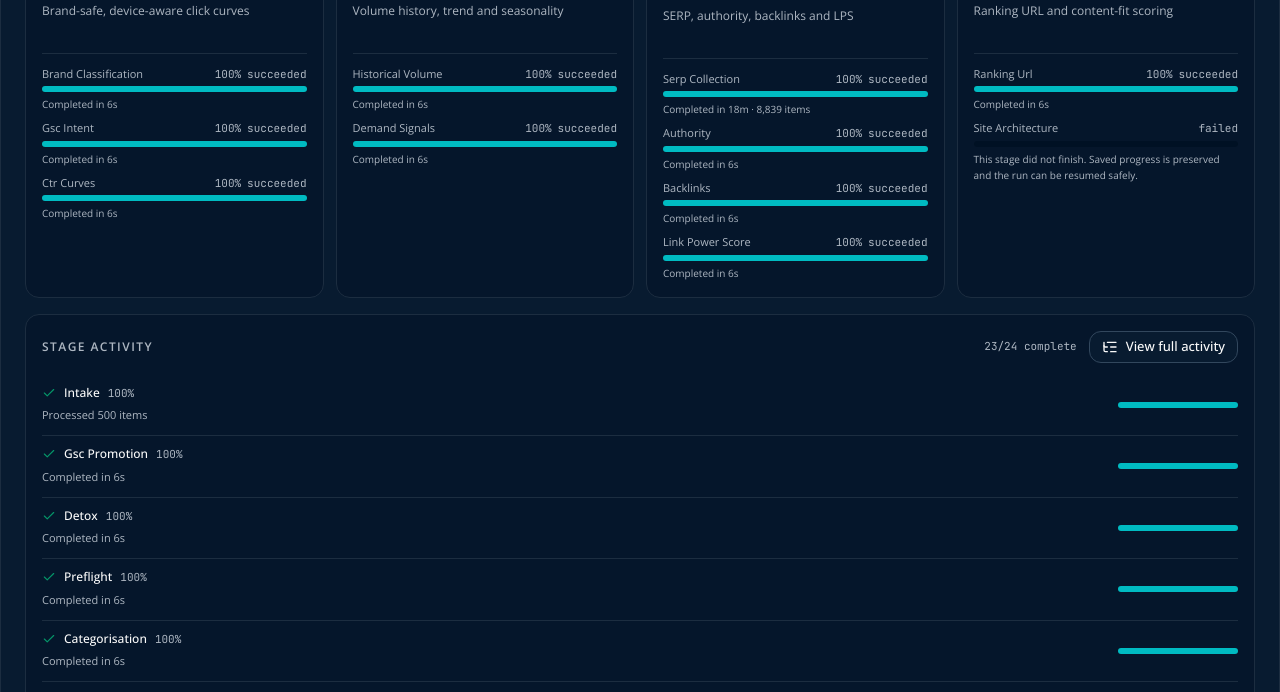
Scenario: AutonomousPipelinePanel › opens a complete sanitized stage-by-stage activity log
This screenshot has width=1280, height=692.
(page scrolled)
Step 1. Click the button "View full activity" → (1163, 346), box [1089,330,1238,362]
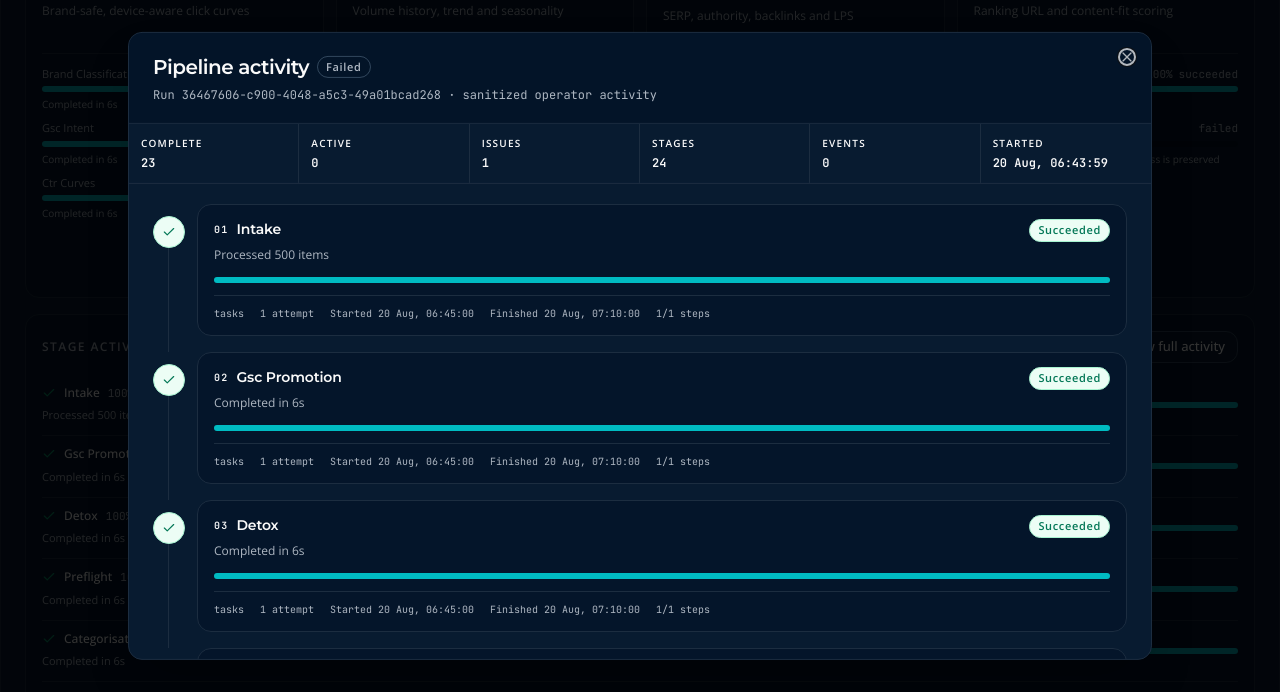
Expected: the text "This stage did not finish. Saved progress is preserved and the run can be resumed safely." is shown, [974,152,1220,182]
Expected: the dialog "Pipeline activity" is shown
